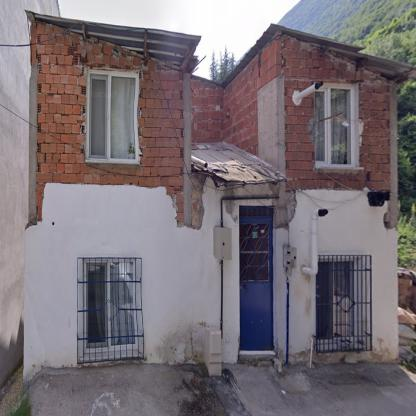door: (239, 206, 273, 350)
window: (84, 260, 138, 354), (86, 70, 139, 163), (316, 82, 354, 166), (316, 260, 354, 343)
